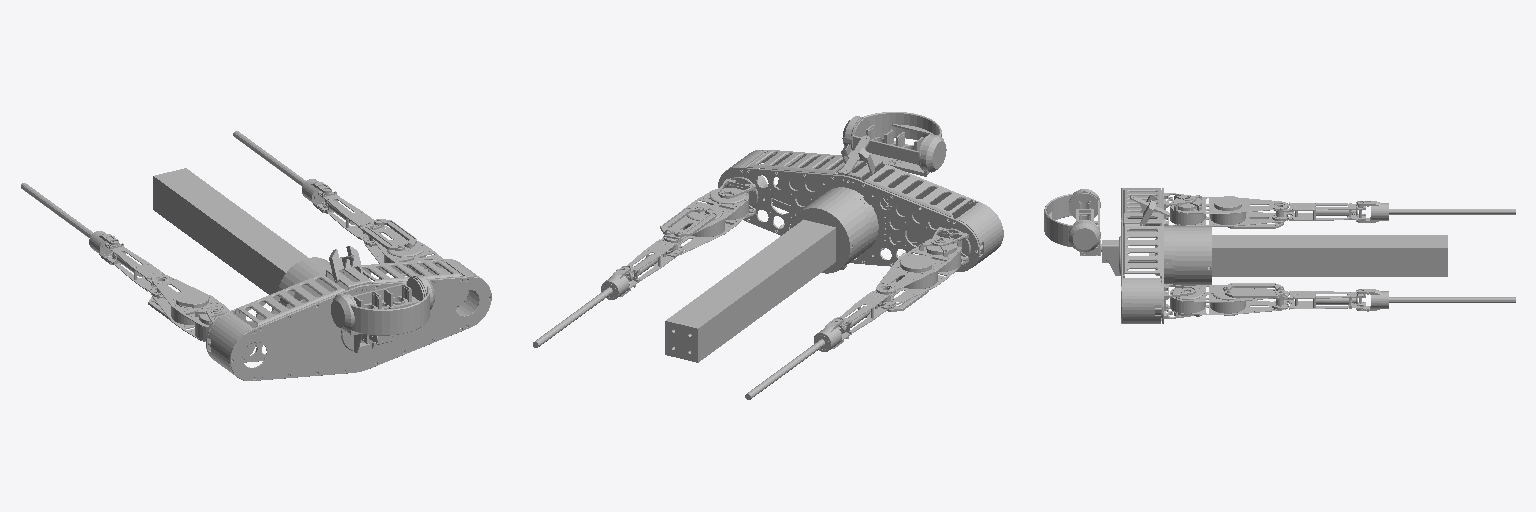
URDF robot description (drumrobot_RL_urdf):
<?xml version="1.0" encoding="utf-8"?>
<!-- This URDF was automatically created by SolidWorks to URDF Exporter! Originally created by Stephen Brawner (brawner@gmail.com) 
     Commit Version: 1.6.0-4-g7f85cfe  Build Version: 1.6.7995.38578
     For more information, please see http://wiki.ros.org/sw_urdf_exporter -->
<robot
  name="drumrobot_RL_urdf">
  <link
    name="base_link">
    <inertial>
      <origin
        xyz="0.049984 -1.561 -0.023419"
        rpy="0 0 0" />
      <mass
        value="6.9792" />
      <inertia
        ixx="0.06278"
        ixy="2.6705E-07"
        ixz="-8.2288E-06"
        iyy="0.015503"
        iyz="0.00031975"
        izz="0.063748" />
    </inertial>
    <visual>
      <origin
        xyz="0 0 0"
        rpy="0 0 0" />
      <geometry>
        <mesh
          filename="package://drumrobot_RL_urdf/meshes/base_link.STL" />
      </geometry>
      <material
        name="">
        <color
          rgba="0.75294 0.75294 0.75294 1" />
      </material>
    </visual>
    <collision>
      <origin
        xyz="0 0 0"
        rpy="0 0 0" />
      <geometry>
        <mesh
          filename="package://drumrobot_RL_urdf/meshes/base_link.STL" />
      </geometry>
    </collision>
  </link>
  <link
    name="waist">
    <inertial>
      <origin
        xyz="-0.00023797 0.0030511 0.025043"
        rpy="0 0 0" />
      <mass
        value="4.737" />
      <inertia
        ixx="0.0059431"
        ixy="-1.0279E-06"
        ixz="2.1883E-06"
        iyy="0.036877"
        iyz="-7.0323E-06"
        izz="0.041312" />
    </inertial>
    <visual>
      <origin
        xyz="0 0 0"
        rpy="0 0 0" />
      <geometry>
        <mesh
          filename="package://drumrobot_RL_urdf/meshes/waist.STL" />
      </geometry>
      <material
        name="">
        <color
          rgba="0.75294 0.75294 0.75294 1" />
      </material>
    </visual>
    <collision>
      <origin
        xyz="0 0 0"
        rpy="0 0 0" />
      <geometry>
        <mesh
          filename="package://drumrobot_RL_urdf/meshes/waist.STL" />
      </geometry>
    </collision>
  </link>
  <joint
    name="waist_joint"
    type="revolute">
    <origin
      xyz="0.049913 -1.7215 -0.025206"
      rpy="1.5708 0 0" />
    <parent
      link="base_link" />
    <child
      link="waist" />
    <axis
      xyz="0 0 1" />
    <limit
      lower="0"
      upper="0"
      effort="0"
      velocity="0" />
  </joint>
  <link
    name="left_shoulder_1">
    <inertial>
      <origin
        xyz="0.0008044 0.0035967 -0.074233"
        rpy="0 0 0" />
      <mass
        value="0.0693" />
      <inertia
        ixx="3.6715E-05"
        ixy="-6.2964E-13"
        ixz="2.0323E-13"
        iyy="5.2364E-05"
        iyz="3.2579E-07"
        izz="4.2646E-05" />
    </inertial>
    <visual>
      <origin
        xyz="0 0 0"
        rpy="0 0 0" />
      <geometry>
        <mesh
          filename="package://drumrobot_RL_urdf/meshes/left_shoulder_1.STL" />
      </geometry>
      <material
        name="">
        <color
          rgba="0.75294 0.75294 0.75294 1" />
      </material>
    </visual>
    <collision>
      <origin
        xyz="0 0 0"
        rpy="0 0 0" />
      <geometry>
        <mesh
          filename="package://drumrobot_RL_urdf/meshes/left_shoulder_1.STL" />
      </geometry>
    </collision>
  </link>
  <joint
    name="left_shoulder_1"
    type="revolute">
    <origin
      xyz="-0.2608 0.00040604 0.03375"
      rpy="0 0 0" />
    <parent
      link="waist" />
    <child
      link="left_shoulder_1" />
    <axis
      xyz="0 0 -1" />
    <limit
      lower="0"
      upper="0"
      effort="0"
      velocity="0" />
  </joint>
  <link
    name="left_shoulder_2">
    <inertial>
      <origin
        xyz="0.056175 2.7583E-10 -0.02332"
        rpy="0 0 0" />
      <mass
        value="2.8727" />
      <inertia
        ixx="0.0017886"
        ixy="4.049E-06"
        ixz="-7.1446E-10"
        iyy="0.0025234"
        iyz="1.2713E-12"
        izz="0.0033752" />
    </inertial>
    <visual>
      <origin
        xyz="0 0 0"
        rpy="0 0 0" />
      <geometry>
        <mesh
          filename="package://drumrobot_RL_urdf/meshes/left_shoulder_2.STL" />
      </geometry>
      <material
        name="">
        <color
          rgba="0.75294 0.75294 0.75294 1" />
      </material>
    </visual>
    <collision>
      <origin
        xyz="0 0 0"
        rpy="0 0 0" />
      <geometry>
        <mesh
          filename="package://drumrobot_RL_urdf/meshes/left_shoulder_2.STL" />
      </geometry>
    </collision>
  </link>
  <joint
    name="left_shoulder_2"
    type="revolute">
    <origin
      xyz="0.00080439 -0.022406 -0.10925"
      rpy="1.5708 1.5708 0" />
    <parent
      link="left_shoulder_1" />
    <child
      link="left_shoulder_2" />
    <axis
      xyz="0 0 1" />
    <limit
      lower="0"
      upper="0"
      effort="0"
      velocity="0" />
  </joint>
  <link
    name="left_elbow">
    <inertial>
      <origin
        xyz="0.11881 2.6109E-07 -0.022621"
        rpy="0 0 0" />
      <mass
        value="0.37689" />
      <inertia
        ixx="3.4583E-05"
        ixy="8.5523E-09"
        ixz="1.301E-07"
        iyy="0.00035016"
        iyz="-1.8102E-10"
        izz="0.00035942" />
    </inertial>
    <visual>
      <origin
        xyz="0 0 0"
        rpy="0 0 0" />
      <geometry>
        <mesh
          filename="package://drumrobot_RL_urdf/meshes/left_elbow.STL" />
      </geometry>
      <material
        name="">
        <color
          rgba="0.75294 0.75294 0.75294 1" />
      </material>
    </visual>
    <collision>
      <origin
        xyz="0 0 0"
        rpy="0 0 0" />
      <geometry>
        <mesh
          filename="package://drumrobot_RL_urdf/meshes/left_elbow.STL" />
      </geometry>
    </collision>
  </link>
  <joint
    name="left_elbow"
    type="revolute">
    <origin
      xyz="0.23 0 0.0005"
      rpy="0 0 0" />
    <parent
      link="left_shoulder_2" />
    <child
      link="left_elbow" />
    <axis
      xyz="0 0 1" />
    <limit
      lower="0"
      upper="0"
      effort="0"
      velocity="0" />
  </joint>
  <link
    name="left_wrist">
    <inertial>
      <origin
        xyz="0.11114 1.1583E-05 -0.023002"
        rpy="0 0 0" />
      <mass
        value="0.084981" />
      <inertia
        ixx="1.3719E-05"
        ixy="2.2849E-08"
        ixz="-7.1702E-09"
        iyy="0.00039646"
        iyz="-7.493E-12"
        izz="0.00039453" />
    </inertial>
    <visual>
      <origin
        xyz="0 0 0"
        rpy="0 0 0" />
      <geometry>
        <mesh
          filename="package://drumrobot_RL_urdf/meshes/left_wrist.STL" />
      </geometry>
      <material
        name="">
        <color
          rgba="0.75294 0.75294 0.75294 1" />
      </material>
    </visual>
    <collision>
      <origin
        xyz="0 0 0"
        rpy="0 0 0" />
      <geometry>
        <mesh
          filename="package://drumrobot_RL_urdf/meshes/left_wrist.STL" />
      </geometry>
    </collision>
  </link>
  <joint
    name="left_wrist"
    type="revolute">
    <origin
      xyz="0.2 0 0.00045"
      rpy="0 0 0" />
    <parent
      link="left_elbow" />
    <child
      link="left_wrist" />
    <axis
      xyz="0 0 -1" />
    <limit
      lower="0"
      upper="0"
      effort="0"
      velocity="0" />
  </joint>
  <link
    name="right_shoulder_1">
    <inertial>
      <origin
        xyz="-0.0001254 -0.004895 -0.074233"
        rpy="0 0 0" />
      <mass
        value="0.0693" />
      <inertia
        ixx="3.6715E-05"
        ixy="-6.2964E-13"
        ixz="-2.0323E-13"
        iyy="5.2364E-05"
        iyz="-3.2579E-07"
        izz="4.2646E-05" />
    </inertial>
    <visual>
      <origin
        xyz="0 0 0"
        rpy="0 0 0" />
      <geometry>
        <mesh
          filename="package://drumrobot_RL_urdf/meshes/right_shoulder_1.STL" />
      </geometry>
      <material
        name="">
        <color
          rgba="0.75294 0.75294 0.75294 1" />
      </material>
    </visual>
    <collision>
      <origin
        xyz="0 0 0"
        rpy="0 0 0" />
      <geometry>
        <mesh
          filename="package://drumrobot_RL_urdf/meshes/right_shoulder_1.STL" />
      </geometry>
    </collision>
  </link>
  <joint
    name="right_shoulder_1"
    type="revolute">
    <origin
      xyz="0.26013 0.00089229 0.03375"
      rpy="0 0 0" />
    <parent
      link="waist" />
    <child
      link="right_shoulder_1" />
    <axis
      xyz="0 0 -1" />
    <limit
      lower="0"
      upper="0"
      effort="0"
      velocity="0" />
  </joint>
  <link
    name="right_shoulder_2">
    <inertial>
      <origin
        xyz="0.056175 -2.7583E-10 -0.02643"
        rpy="0 0 0" />
      <mass
        value="2.8727" />
      <inertia
        ixx="0.0017886"
        ixy="-4.049E-06"
        ixz="7.1446E-10"
        iyy="0.0025234"
        iyz="1.2713E-12"
        izz="0.0033752" />
    </inertial>
    <visual>
      <origin
        xyz="0 0 0"
        rpy="0 0 0" />
      <geometry>
        <mesh
          filename="package://drumrobot_RL_urdf/meshes/right_shoulder_2.STL" />
      </geometry>
      <material
        name="">
        <color
          rgba="0.75294 0.75294 0.75294 1" />
      </material>
    </visual>
    <collision>
      <origin
        xyz="0 0 0"
        rpy="0 0 0" />
      <geometry>
        <mesh
          filename="package://drumrobot_RL_urdf/meshes/right_shoulder_2.STL" />
      </geometry>
    </collision>
  </link>
  <joint
    name="right_shoulder_2"
    type="revolute">
    <origin
      xyz="-0.0001254 -0.028642 -0.10925"
      rpy="1.5708 1.5708 0" />
    <parent
      link="right_shoulder_1" />
    <child
      link="right_shoulder_2" />
    <axis
      xyz="0 0 -1" />
    <limit
      lower="0"
      upper="0"
      effort="0"
      velocity="0" />
  </joint>
  <link
    name="right_elbow">
    <inertial>
      <origin
        xyz="0.11881 -2.6109E-07 -0.016429"
        rpy="0 0 0" />
      <mass
        value="0.37689" />
      <inertia
        ixx="3.4583E-05"
        ixy="-8.5523E-09"
        ixz="-1.301E-07"
        iyy="0.00035016"
        iyz="-1.8102E-10"
        izz="0.00035942" />
    </inertial>
    <visual>
      <origin
        xyz="0 0 0"
        rpy="0 0 0" />
      <geometry>
        <mesh
          filename="package://drumrobot_RL_urdf/meshes/right_elbow.STL" />
      </geometry>
      <material
        name="">
        <color
          rgba="0.75294 0.75294 0.75294 1" />
      </material>
    </visual>
    <collision>
      <origin
        xyz="0 0 0"
        rpy="0 0 0" />
      <geometry>
        <mesh
          filename="package://drumrobot_RL_urdf/meshes/right_elbow.STL" />
      </geometry>
    </collision>
  </link>
  <joint
    name="right_elbow"
    type="revolute">
    <origin
      xyz="0.23 0 -0.0112"
      rpy="0 0 0" />
    <parent
      link="right_shoulder_2" />
    <child
      link="right_elbow" />
    <axis
      xyz="0 0 -1" />
    <limit
      lower="0"
      upper="0"
      effort="0"
      velocity="0" />
  </joint>
  <link
    name="right_wrist">
    <inertial>
      <origin
        xyz="0.11114 1.1583E-05 -0.026002"
        rpy="0 0 0" />
      <mass
        value="0.084981" />
      <inertia
        ixx="1.3719E-05"
        ixy="2.2849E-08"
        ixz="-7.1702E-09"
        iyy="0.00039646"
        iyz="-7.493E-12"
        izz="0.00039453" />
    </inertial>
    <visual>
      <origin
        xyz="0 0 0"
        rpy="0 0 0" />
      <geometry>
        <mesh
          filename="package://drumrobot_RL_urdf/meshes/right_wrist.STL" />
      </geometry>
      <material
        name="">
        <color
          rgba="0.75294 0.75294 0.75294 1" />
      </material>
    </visual>
    <collision>
      <origin
        xyz="0 0 0"
        rpy="0 0 0" />
      <geometry>
        <mesh
          filename="package://drumrobot_RL_urdf/meshes/right_wrist.STL" />
      </geometry>
    </collision>
  </link>
  <joint
    name="right_wrist"
    type="revolute">
    <origin
      xyz="0.2 0 0.0095"
      rpy="0 0 0" />
    <parent
      link="right_elbow" />
    <child
      link="right_wrist" />
    <axis
      xyz="0 0 1" />
    <limit
      lower="0"
      upper="0"
      effort="0"
      velocity="0" />
  </joint>
  <link
    name="head">
    <inertial>
      <origin
        xyz="-0.00031434 -5.6798E-06 0.026892"
        rpy="0 0 0" />
      <mass
        value="0.31902" />
      <inertia
        ixx="7.2002E-05"
        ixy="2.1035E-09"
        ixz="-5.2319E-08"
        iyy="6.1312E-05"
        iyz="-5.6195E-08"
        izz="2.9042E-05" />
    </inertial>
    <visual>
      <origin
        xyz="0 0 0"
        rpy="0 0 0" />
      <geometry>
        <mesh
          filename="package://drumrobot_RL_urdf/meshes/head.STL" />
      </geometry>
      <material
        name="">
        <color
          rgba="0.75294 0.75294 0.75294 1" />
      </material>
    </visual>
    <collision>
      <origin
        xyz="0 0 0"
        rpy="0 0 0" />
      <geometry>
        <mesh
          filename="package://drumrobot_RL_urdf/meshes/head.STL" />
      </geometry>
    </collision>
  </link>
  <joint
    name="head"
    type="revolute">
    <origin
      xyz="0 0.022 0.142"
      rpy="0 0 0" />
    <parent
      link="waist" />
    <child
      link="head" />
    <axis
      xyz="0 0 -1" />
    <limit
      lower="0"
      upper="0"
      effort="0"
      velocity="0" />
  </joint>
  <link
    name="head_2">
    <inertial>
      <origin
        xyz="-0.011418 0.019288 -0.069715"
        rpy="0 0 0" />
      <mass
        value="0.20144" />
      <inertia
        ixx="0.0012665"
        ixy="7.4538E-09"
        ixz="4.4275E-06"
        iyy="0.00030395"
        iyz="1.5738E-10"
        izz="0.0014077" />
    </inertial>
    <visual>
      <origin
        xyz="0 0 0"
        rpy="0 0 0" />
      <geometry>
        <mesh
          filename="package://drumrobot_RL_urdf/meshes/head_2.STL" />
      </geometry>
      <material
        name="">
        <color
          rgba="0.75294 0.75294 0.75294 1" />
      </material>
    </visual>
    <collision>
      <origin
        xyz="0 0 0"
        rpy="0 0 0" />
      <geometry>
        <mesh
          filename="package://drumrobot_RL_urdf/meshes/head_2.STL" />
      </geometry>
    </collision>
  </link>
  <joint
    name="head_2"
    type="revolute">
    <origin
      xyz="-0.019 0 0.039006"
      rpy="1.5708 1.5708 0" />
    <parent
      link="head" />
    <child
      link="head_2" />
    <axis
      xyz="0 1 0" />
    <limit
      lower="0"
      upper="0"
      effort="0"
      velocity="0" />
  </joint>
</robot>

--- Facts derived from the render (not from the file) ---
The picture shows the robot from 3 angles, left to right: view 1: azimuth 30°, elevation 25°; view 2: azimuth 150°, elevation 25°; view 3: azimuth 270°, elevation 25°; orthographic projection.
Robot: drumrobot_RL_urdf — 12 links, 11 joints (11 revolute); root link base_link; default pose: all joints at 0.
Visible links, largest first — view 1: waist, base_link, head_2, left_shoulder_2, right_shoulder_2, left_elbow, right_elbow, left_wrist, right_wrist; view 2: waist, base_link, head_2, left_shoulder_2, right_shoulder_2, left_elbow, left_wrist, right_wrist, right_elbow; view 3: base_link, waist, right_shoulder_2, left_shoulder_2, head_2, left_elbow, right_elbow, left_wrist, right_wrist.
Boxes of the visible links, x1,y1,x2,y2 form: waist: (206,246,491,380); base_link: (153,168,330,306); head_2: (331,275,434,339); left_shoulder_2: (148,275,229,341); right_shoulder_2: (362,219,442,276); left_elbow: (105,243,169,295); right_elbow: (318,191,380,244); left_wrist: (21,183,118,264); right_wrist: (233,131,331,213); waist: (718,135,1003,271); base_link: (665,187,878,362); head_2: (842,112,946,176); left_shoulder_2: (876,235,961,311); right_shoulder_2: (660,188,748,255); left_elbow: (834,286,895,341); left_wrist: (745,317,843,399); right_wrist: (533,266,630,347); right_elbow: (625,238,683,289); base_link: (1149,226,1447,285); waist: (1101,188,1169,323); right_shoulder_2: (1170,283,1288,316); left_shoulder_2: (1170,195,1288,228); head_2: (1044,189,1100,252); left_elbow: (1272,202,1365,221); right_elbow: (1272,290,1365,309); left_wrist: (1357,201,1515,222); right_wrist: (1357,289,1515,311).
Bounding box of the posed robot: 0.64 × 1.17 × 0.264 m (x, y, z).
12 mesh visuals loaded from 12 distinct referenced files (12 binary STL).
